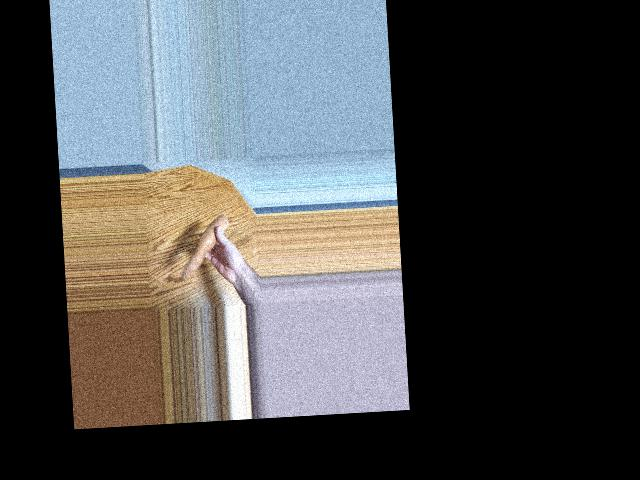sweet_potato: (180, 219, 233, 278)
